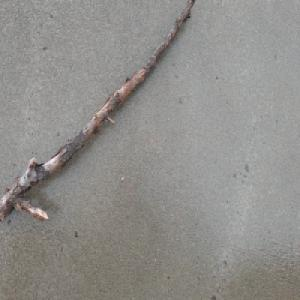Wood: (0, 0, 195, 224)
